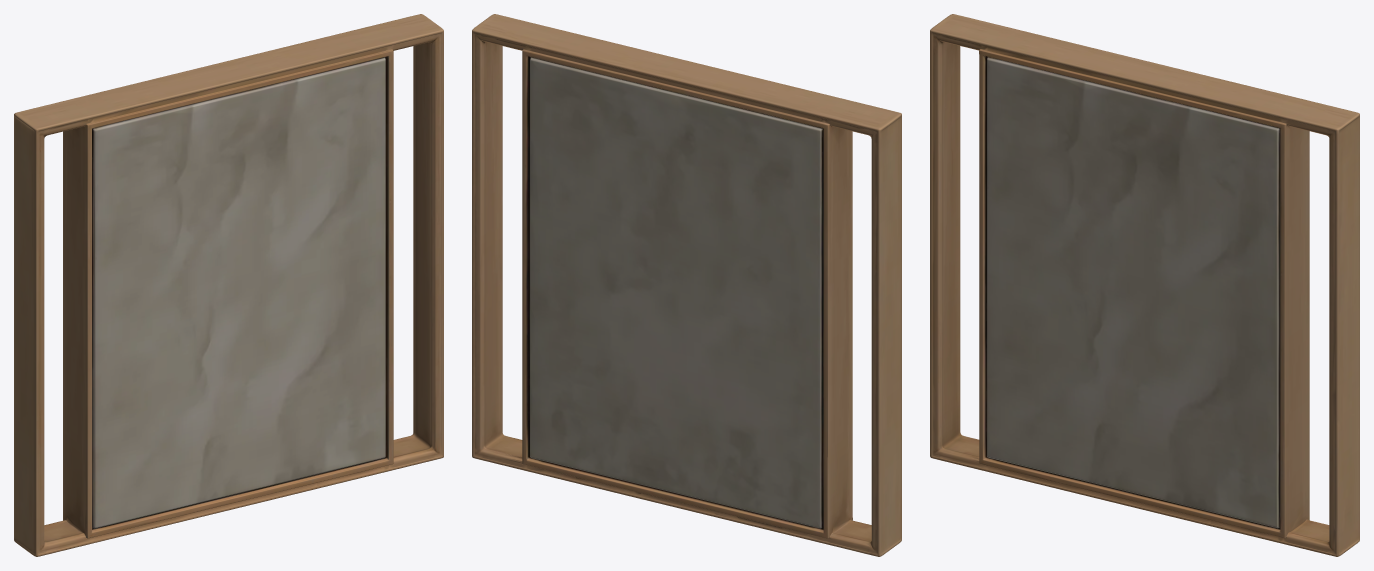
3 views of the same model, side by side, from view 1: azimuth 30°, elevation 25°; view 2: azimuth 150°, elevation 25°; view 3: azimuth 330°, elevation 25° (orthographic).
Visible parts, largest first — view 1: material; view 2: material; view 3: material.
Boxes of the visible parts, x1,y1,x2,y2 form: material: (14, 14, 443, 556); material: (472, 14, 901, 556); material: (930, 14, 1359, 556).
Size of the model in its own units: 0.8489 by 0.8485 by 0.0902.
Materials: 1 (1 with a texture image).
